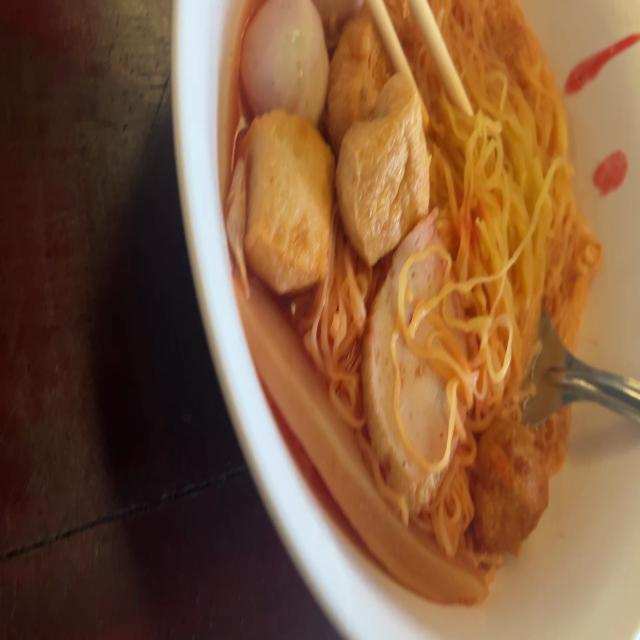crunchy_squid: (226, 247, 508, 621)
egg_noodles: (417, 0, 589, 455)
fish_ball: (236, 0, 328, 135)
fried_fish_balls: (362, 212, 476, 508)
fried_tofu: (334, 14, 427, 256)
noodle: (218, 0, 602, 604)
tofu: (245, 104, 336, 298)
